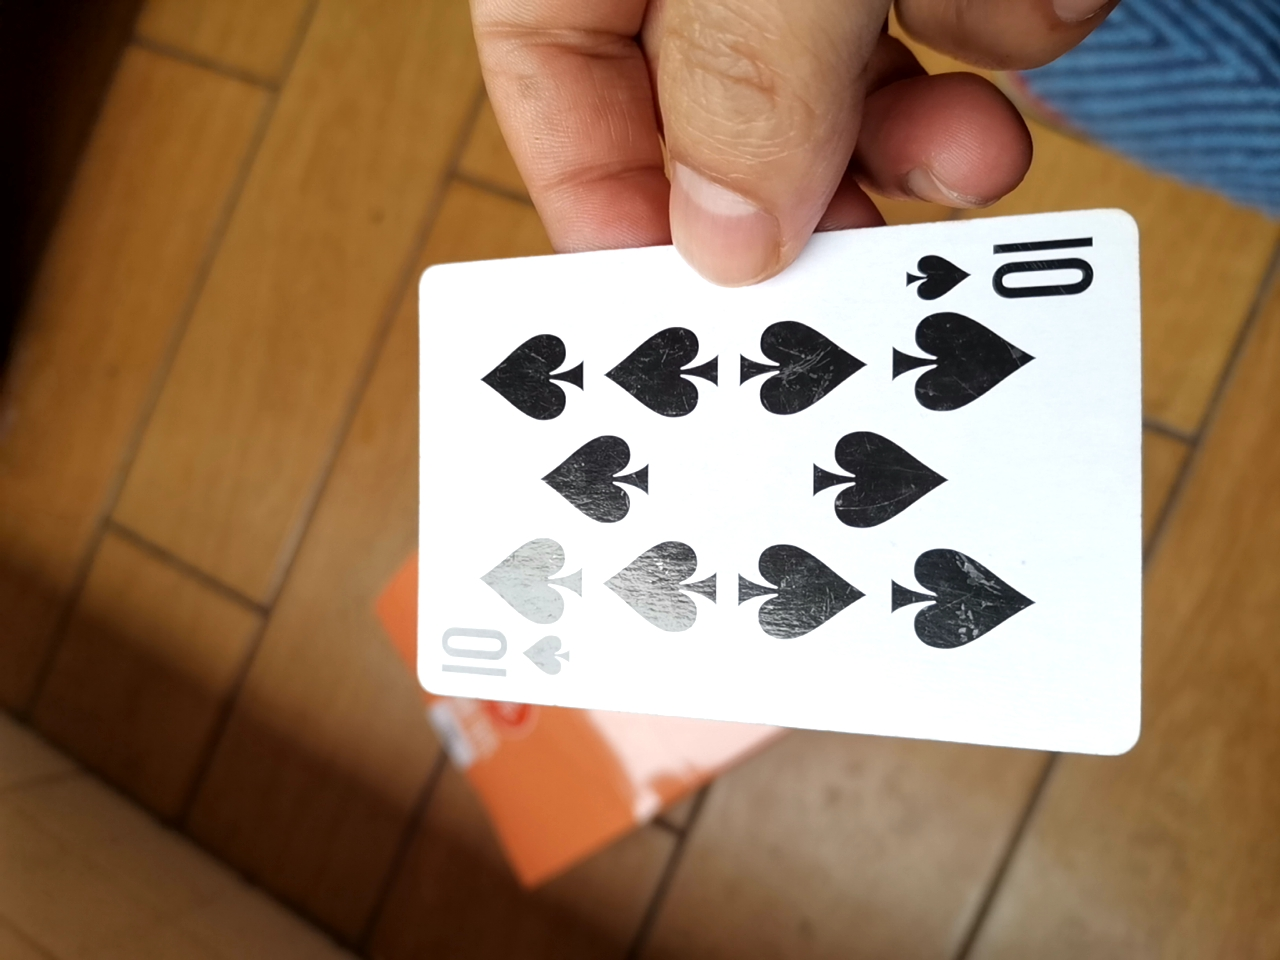ht 10: (389, 202, 1137, 763)
